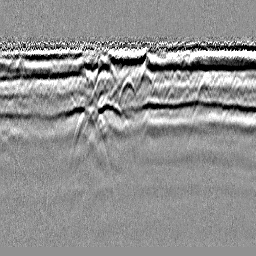cavity: (117, 76, 139, 105)
